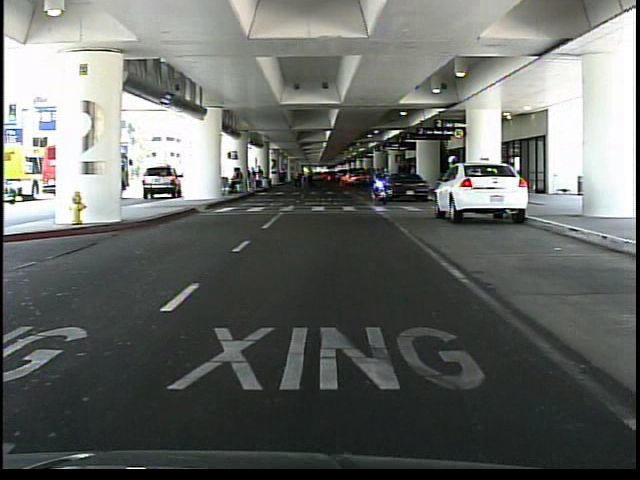person: (443, 151, 461, 216)
